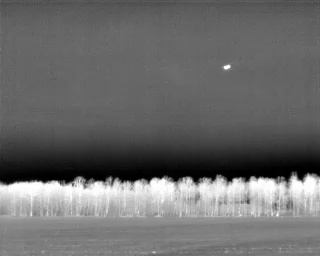DRONE: (220, 60, 234, 74)
